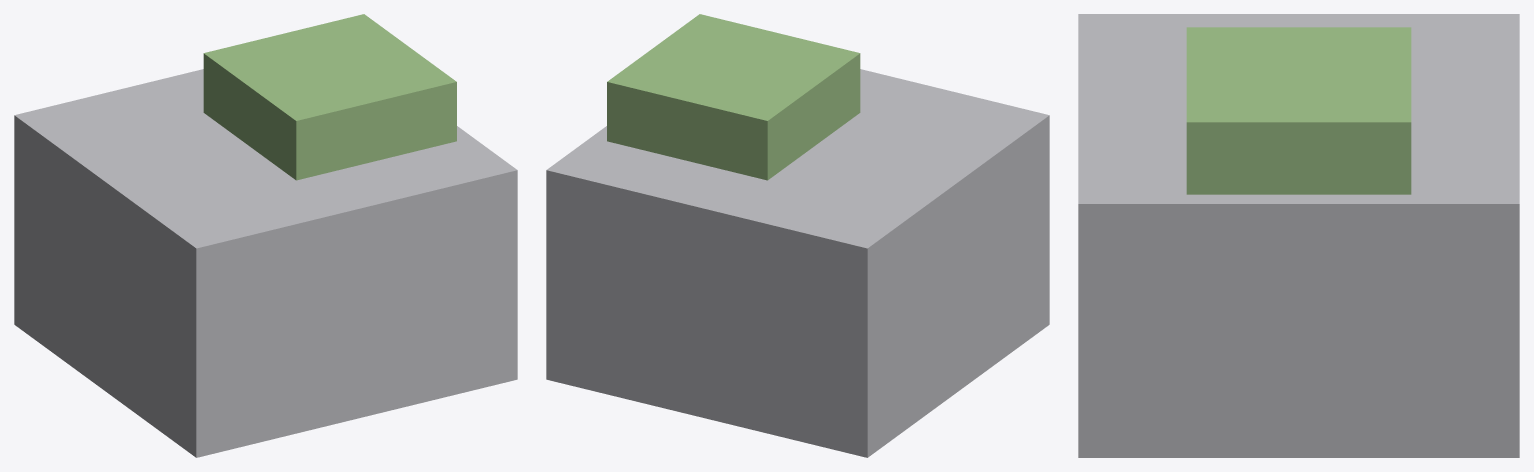
Rendered from Prop_Dress_AMF_Rock_V4.glb.
The picture shows the model from 3 angles, left to right: view 1: azimuth 30°, elevation 25°; view 2: azimuth 150°, elevation 25°; view 3: azimuth 270°, elevation 25°; orthographic projection. The views are drawn at different scales.
Parts seen in each view (by area): view 1: Prop_Dress_AMF_Rock_V4; view 2: Prop_Dress_AMF_Rock_V4; view 3: Prop_Dress_AMF_Rock_V4.
Boxes of the visible parts, <box> form: Prop_Dress_AMF_Rock_V4: <box>14,14,517,457</box>; Prop_Dress_AMF_Rock_V4: <box>546,14,1049,457</box>; Prop_Dress_AMF_Rock_V4: <box>1078,14,1519,457</box>.
Bounding box in the file's own units: 1.55 × 1.24 × 1.52.
